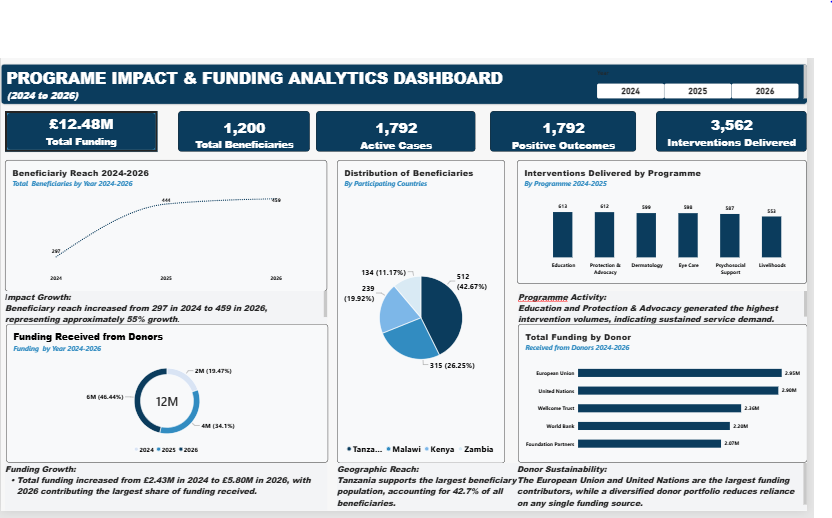

The page's visual inventory and layout, read from the dashboard file:
{"tool":"powerbi","page":{"name":"DashboardReport","canvas":[1920,1080],"ordinal":1},"visuals":[{"type":"cardVisual","fields":{"Data":["mymeasures.Total Funding"]},"box":[10.6,129.7,363.5,97.8],"z":0},{"type":"cardVisual","fields":{"Data":["mymeasures.Positive Outcomes"]},"box":[1165,129.7,348.7,97.8],"z":1000},{"type":"cardVisual","fields":{"Data":["mymeasures.Interventions Delivered"]},"box":[1560.5,129.7,359.3,97.8],"z":2000},{"type":"cardVisual","fields":{"Data":["mymeasures.Active Cases"]},"box":[750.5,129.7,380.6,97.8],"z":3000},{"type":"cardVisual","fields":{"Data":["mymeasures.Total  Beneficiaries"]},"box":[420.9,129.7,314.6,97.8],"z":4000},{"type":"columnChart","fields":{"Category":["Dim_Programmes.Programme"],"Y":["mymeasures.Interventions Delivered"]},"box":[1229.3,244.8,689.7,294.8],"z":5000},{"type":"barChart","fields":{"Category":["Dim_Donors.Donor"],"Y":["mymeasures.Total Funding"]},"box":[1230.2,636.5,688.9,330.2],"z":6000},{"type":"lineChart","title":"Beneficiariy Reach 2024-2026","fields":{"Category":["Dim_Beneficiaries.Year"],"Y":["mymeasures.Total  Beneficiaries"]},"box":[10.6,244.5,767.5,312.5],"z":7000},{"type":"donutChart","title":"Funding Received from Donors","fields":{"Category":["Fact_Funding.Year"],"Y":["Sum(Fact_Funding.FundingAmount)"]},"box":[11.1,636.5,766.7,330.2],"z":8000},{"type":"pieChart","title":"Distribution of Beneficiaries","fields":{"Category":["Dim_Countries.Country"],"Y":["mymeasures.Total  Beneficiaries"]},"box":[800,244.4,400,722.2],"z":9000},{"type":"textbox","box":[0,17,1919.8,95.7],"z":10000},{"type":"advancedSlicerVisual","fields":{"Values":["Dim_Beneficiaries.Year"]},"box":[1420.2,31.9,480.5,68],"z":10501},{"type":"textbox","box":[10.3,556.9,767.2,79.3],"z":10502},{"type":"textbox","box":[1230.2,557.1,688.9,77.8],"z":10503},{"type":"textbox","box":[799.4,967.3,457.1,112.7],"z":10504},{"type":"textbox","box":[1229.3,967.2,689.7,112.1],"z":10505},{"type":"textbox","box":[10.6,967.3,767.5,112.7],"z":10506}]}

Visuals, with their boxes on the page's 1920x1080 design canvas (x1, y1, x2, y2). These are canvas units, not pixel positions in the 832x518 screenshot, which may show the page scaled, cropped or inside an application window:
cardVisual - mymeasures.Total Funding: pyautogui.locateOnScreen(11, 130, 374, 228)
cardVisual - mymeasures.Positive Outcomes: pyautogui.locateOnScreen(1165, 130, 1514, 228)
cardVisual - mymeasures.Interventions Delivered: pyautogui.locateOnScreen(1560, 130, 1920, 228)
cardVisual - mymeasures.Active Cases: pyautogui.locateOnScreen(750, 130, 1131, 228)
cardVisual - mymeasures.Total  Beneficiaries: pyautogui.locateOnScreen(421, 130, 736, 228)
columnChart - Dim_Programmes.Programme x mymeasures.Interventions Delivered: pyautogui.locateOnScreen(1229, 245, 1919, 540)
barChart - Dim_Donors.Donor x mymeasures.Total Funding: pyautogui.locateOnScreen(1230, 636, 1919, 967)
"Beneficiariy Reach 2024-2026" lineChart: pyautogui.locateOnScreen(11, 244, 778, 557)
"Funding Received from Donors" donutChart: pyautogui.locateOnScreen(11, 636, 778, 967)
"Distribution of Beneficiaries" pieChart: pyautogui.locateOnScreen(800, 244, 1200, 967)
textbox: pyautogui.locateOnScreen(0, 17, 1920, 113)
advancedSlicerVisual - Dim_Beneficiaries.Year: pyautogui.locateOnScreen(1420, 32, 1901, 100)
textbox: pyautogui.locateOnScreen(10, 557, 778, 636)
textbox: pyautogui.locateOnScreen(1230, 557, 1919, 635)
textbox: pyautogui.locateOnScreen(799, 967, 1256, 1080)
textbox: pyautogui.locateOnScreen(1229, 967, 1919, 1079)
textbox: pyautogui.locateOnScreen(11, 967, 778, 1080)
